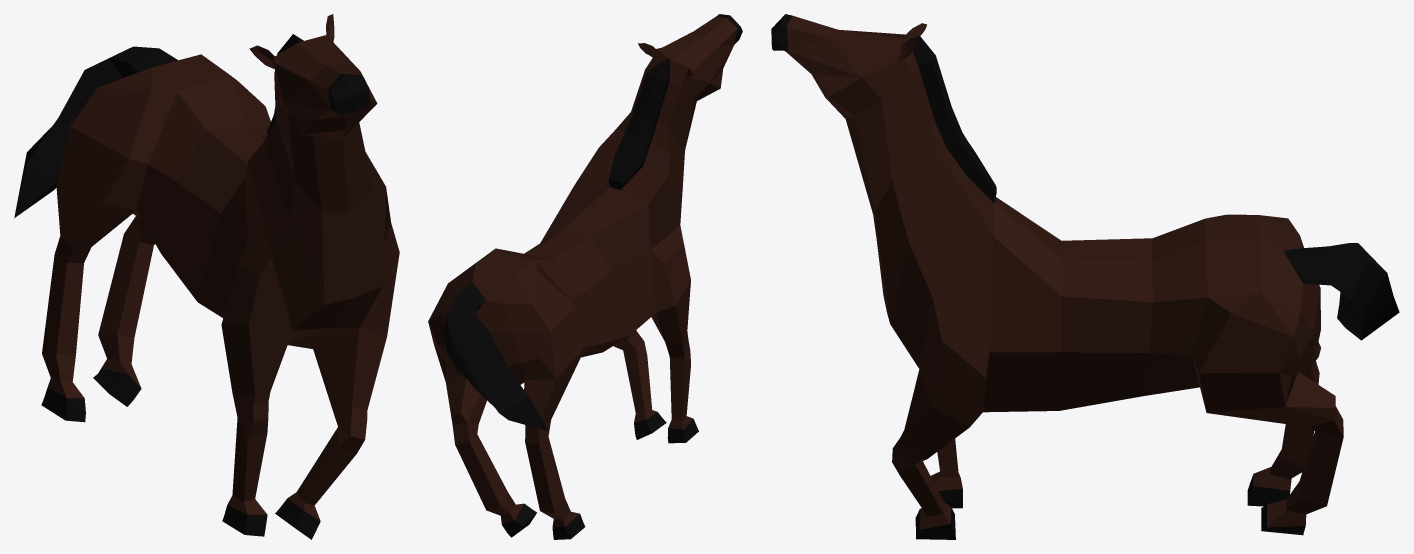
The model's file is Horse_000008.obj.
3 views of the same model, side by side, from view 1: azimuth 30°, elevation 25°; view 2: azimuth 150°, elevation 25°; view 3: azimuth 270°, elevation 25° (orthographic). The views are drawn at different scales.
Parts seen in each view (by area): view 1: Horse_Cylinder; view 2: Horse_Cylinder; view 3: Horse_Cylinder.
Part boxes in pixels (x1=…): Horse_Cylinder: x1=14, y1=14, x2=399, y2=539; Horse_Cylinder: x1=428, y1=14, x2=742, y2=539; Horse_Cylinder: x1=771, y1=14, x2=1399, y2=539.
Size of the model in its own units: 2.92 by 7.6 by 8.51.
